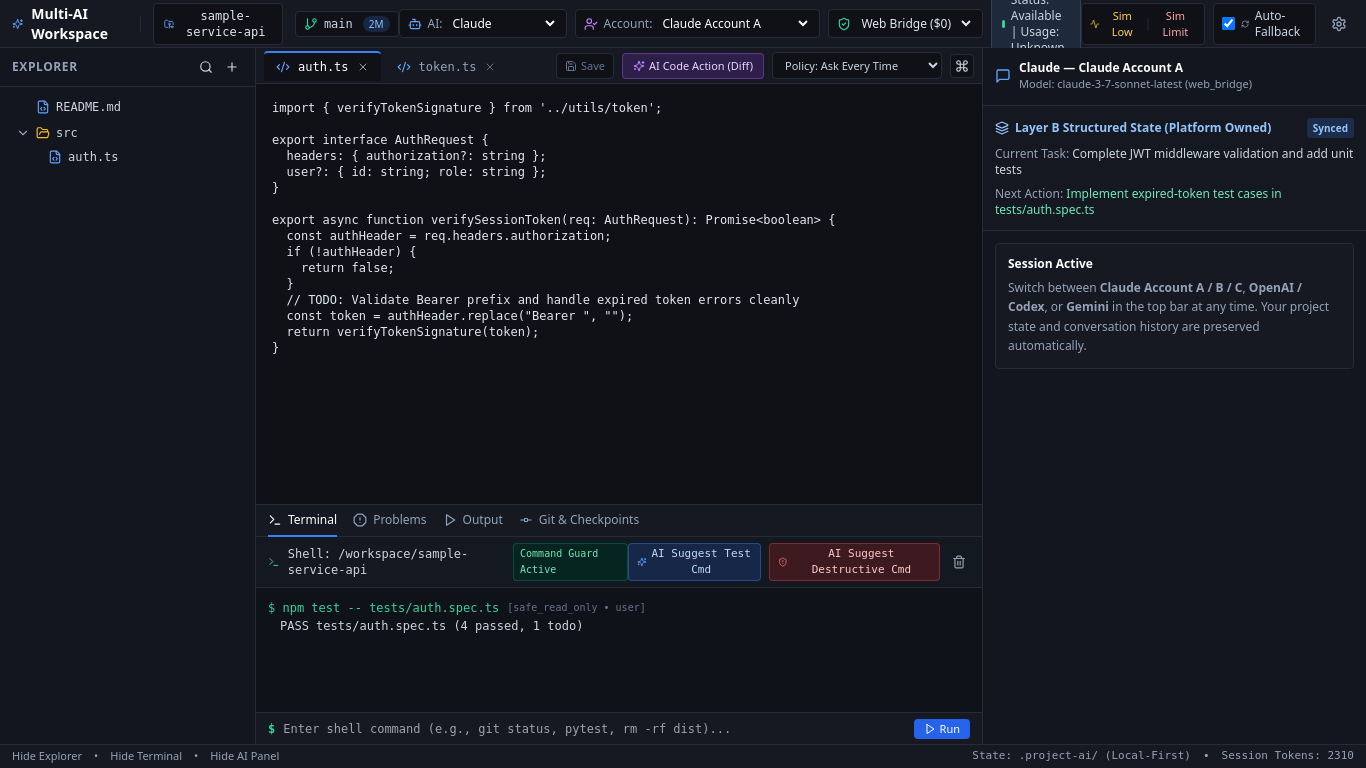
Phase 3: File Explorer & Quick Search › renders recursive file explorer tree and opens quick search modal on shortcut/click
Expected: the text "README.md" is shown, [56,99,121,115]
Expected: the text "auth.ts" below "src" is shown, [68,150,119,164]
Open quick search modal
Click the button titled "Quick File Search (Cmd/Ctrl+P)" at x=206, y=67, box [195,56,217,78]
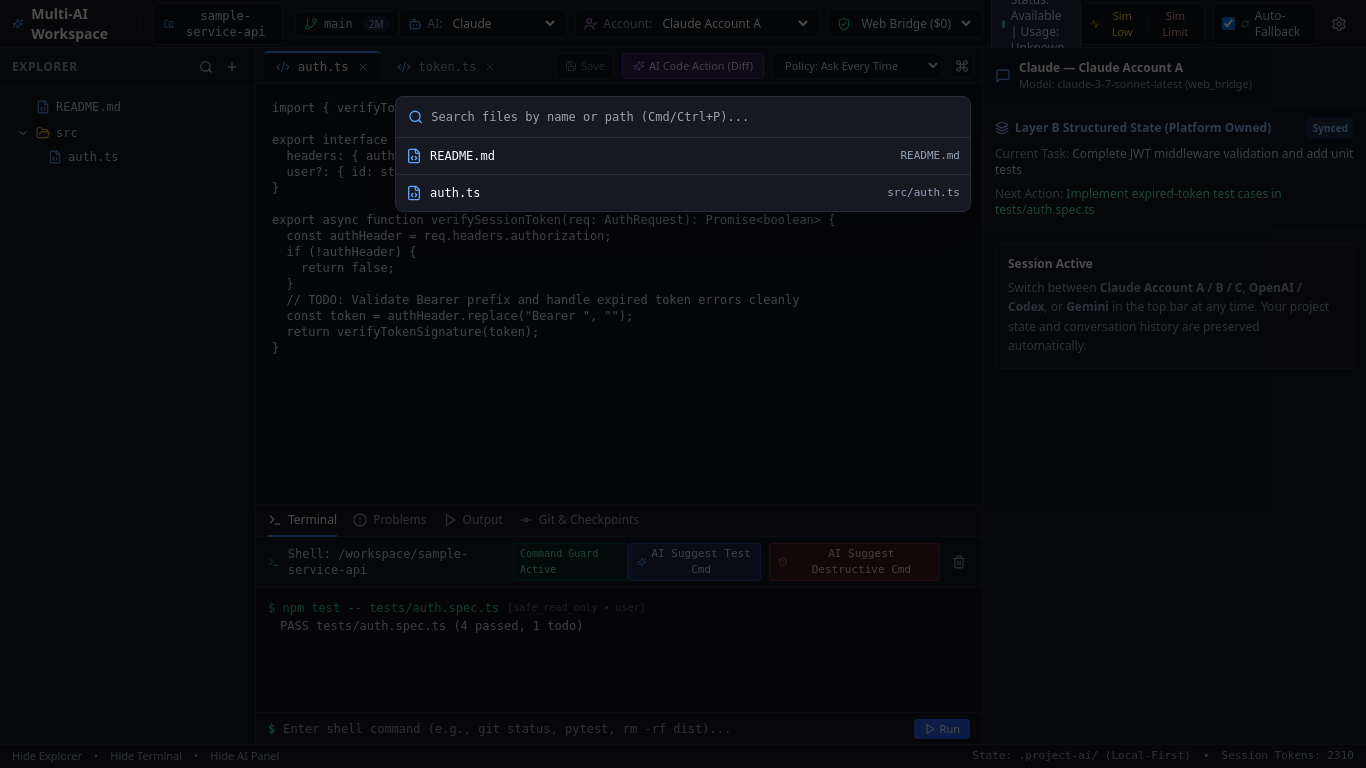
Result: the element with test id "quick-search-modal" is shown
